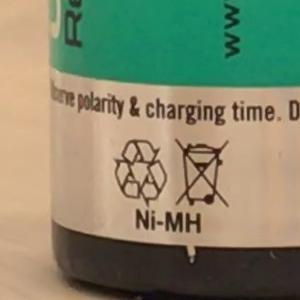keyword: (126, 202, 211, 240)
